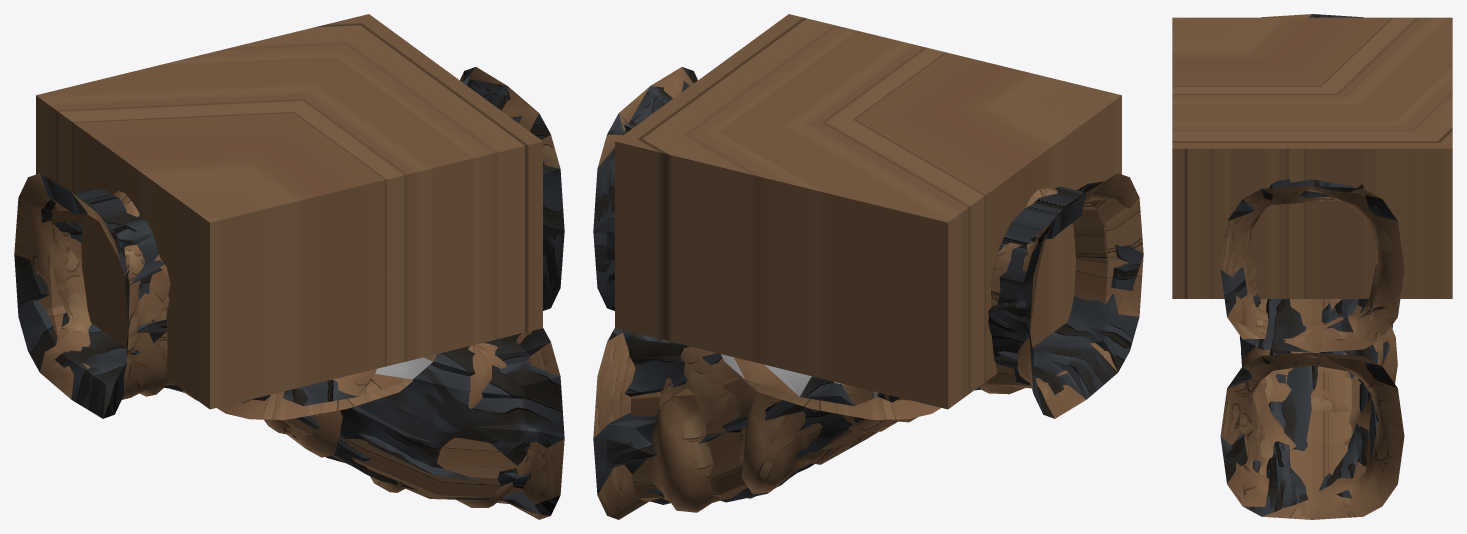
File: Tunnels_01.fbx
3 views of the same model, side by side, from view 1: azimuth 30°, elevation 25°; view 2: azimuth 150°, elevation 25°; view 3: azimuth 270°, elevation 25° (orthographic). The views are drawn at different scales.
Parts seen in each view (by area): view 1: Tunnel_Cap, Tunnel_Slope_10m_B, Tunnel_Straight_10m_B, Tunnel_Straight_10m_A, Tunnel_Slope_10m_A, Tunnel_Slope_10m_A_COL, Tunnel_Straight_10m_B_COL, Tunnel_Straight_10m_A_COL, Tunnel_T_5m_B, Tunnel_90Deg_5m_A; view 2: Tunnel_Cap, Tunnel_Slope_10m_A, Tunnel_Slope_10m_A_COL, Tunnel_Straight_10m_B, Tunnel_Slope_10m_B, Tunnel_Straight_10m_B_COL, Tunnel_Straight_10m_A, Tunnel_Straight_10m_A_COL, Tunnel_T_5m_A; view 3: Tunnel_Cap, Tunnel_Slope_10m_A, Tunnel_Slope_10m_B, Tunnel_Straight_10m_A, Tunnel_Slope_10m_A_COL, Tunnel_Straight_10m_B, Tunnel_Straight_10m_A_COL, Tunnel_Straight_10m_B_COL.
Boxes of the visible parts, <box> form: Tunnel_Cap: <box>36,14,542,419</box>; Tunnel_Slope_10m_B: <box>33,193,564,515</box>; Tunnel_Straight_10m_B: <box>14,69,564,418</box>; Tunnel_Straight_10m_A: <box>14,67,560,398</box>; Tunnel_Slope_10m_A: <box>33,194,560,518</box>; Tunnel_Slope_10m_A_COL: <box>51,194,564,519</box>; Tunnel_Straight_10m_B_COL: <box>73,67,564,389</box>; Tunnel_Straight_10m_A_COL: <box>35,238,90,368</box>; Tunnel_T_5m_B: <box>304,380,357,405</box>; Tunnel_90Deg_5m_A: <box>332,369,376,396</box>; Tunnel_Cap: <box>615,14,1121,419</box>; Tunnel_Slope_10m_A: <box>607,220,1138,512</box>; Tunnel_Slope_10m_A_COL: <box>593,174,1126,519</box>; Tunnel_Straight_10m_B: <box>593,67,1143,418</box>; Tunnel_Slope_10m_B: <box>593,220,1130,514</box>; Tunnel_Straight_10m_B_COL: <box>593,86,1085,385</box>; Tunnel_Straight_10m_A: <box>597,67,1139,400</box>; Tunnel_Straight_10m_A_COL: <box>1056,198,1143,393</box>; Tunnel_T_5m_A: <box>734,357,798,396</box>; Tunnel_Cap: <box>1172,17,1452,298</box>; Tunnel_Slope_10m_A: <box>1221,14,1404,519</box>; Tunnel_Slope_10m_B: <box>1220,17,1397,516</box>; Tunnel_Straight_10m_A: <box>1221,185,1404,352</box>; Tunnel_Slope_10m_A_COL: <box>1220,352,1381,497</box>; Tunnel_Straight_10m_B: <box>1220,17,1397,352</box>; Tunnel_Straight_10m_A_COL: <box>1220,185,1382,340</box>; Tunnel_Straight_10m_B_COL: <box>1268,14,1362,188</box>.
Size of the model in its own units: 11 by 10.5 by 7.6.
